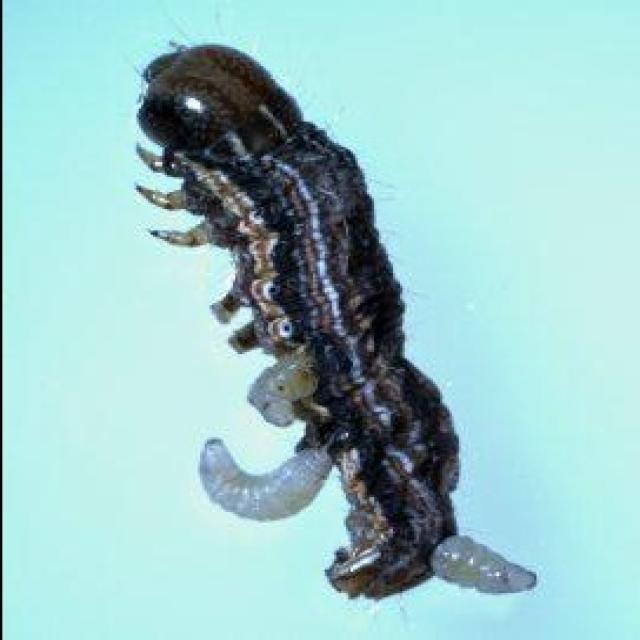army worm: (134, 30, 541, 612)
